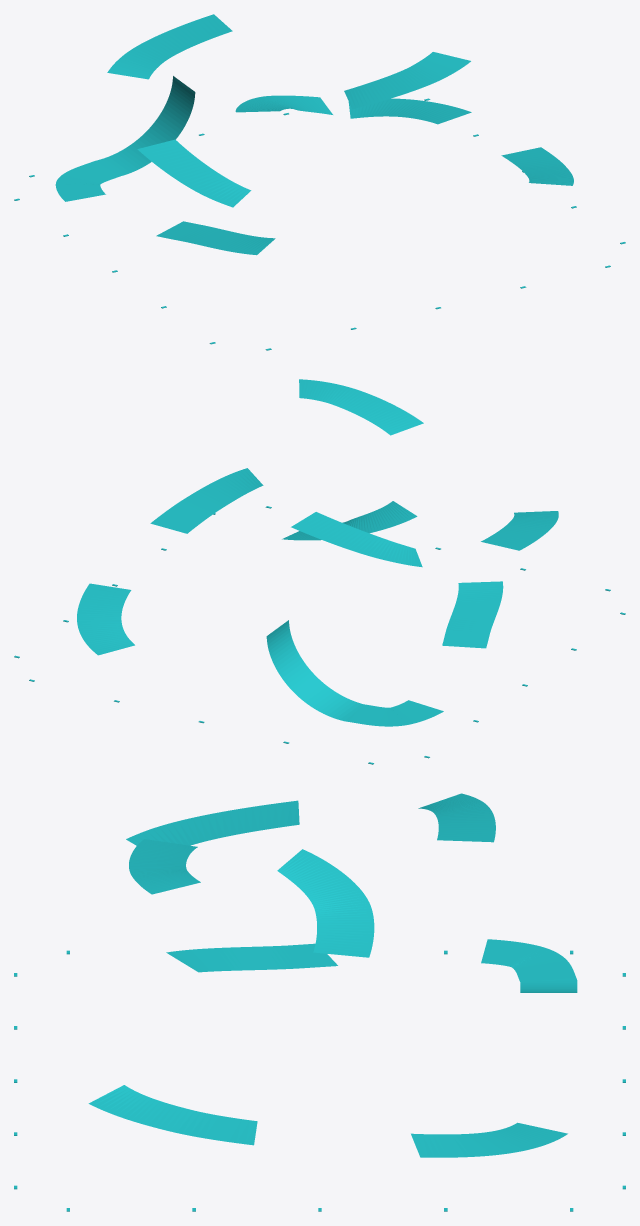
The model's file is circuit-part-2.glb.
3 views of the same model, one above another, from view 1: azimuth 30°, elevation 25°; view 2: azimuth 150°, elevation 25°; view 3: azimuth 270°, elevation 25° (orthographic). The views are drawn at different scales.
Visible parts, largest first — view 1: track-part-0; view 2: track-part-0; view 3: track-part-0.
Part boxes in pixels (x1=…): track-part-0: x1=14, y1=14, x2=625, y2=350; track-part-0: x1=14, y1=379, x2=625, y2=764; track-part-0: x1=14, y1=793, x2=625, y2=1211.
Size of the model in its own units: 26.91 by 11.62 by 26.75.
